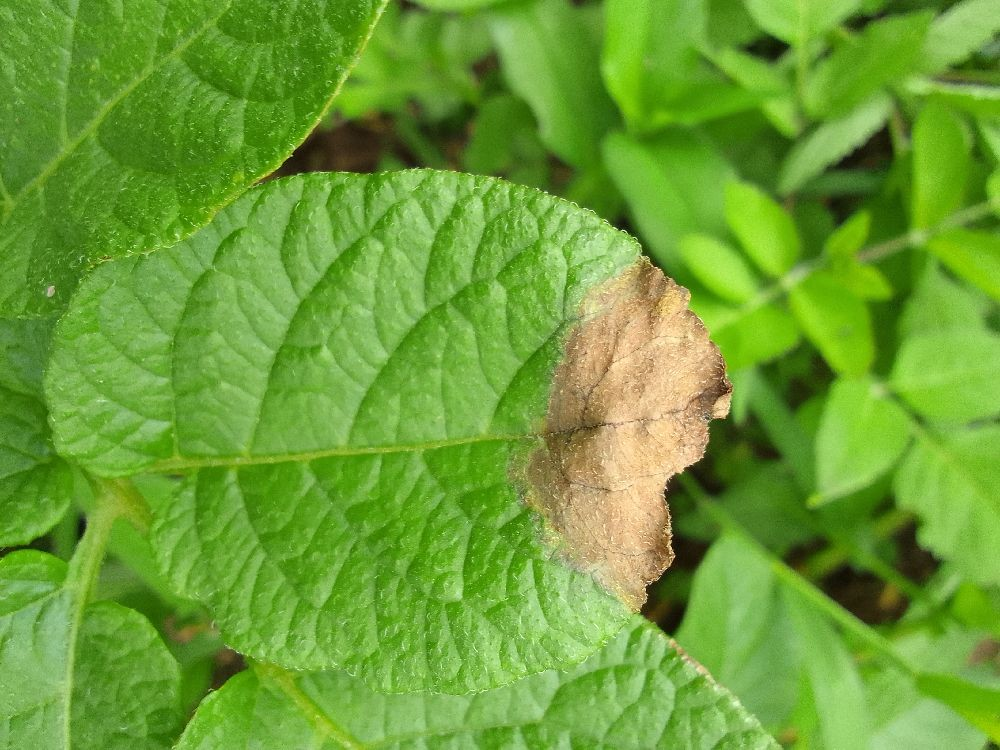late_blight: (482, 217, 820, 669), (287, 96, 420, 189), (806, 548, 920, 636)
